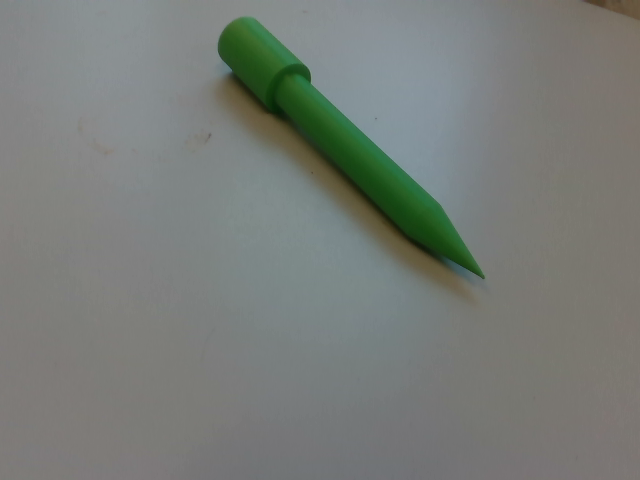Probe: (213, 10, 495, 288)
